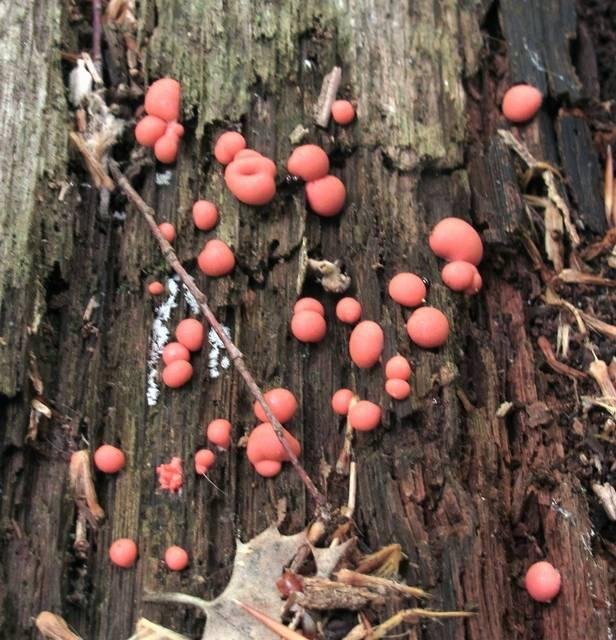poisonous_mushroom: (117, 67, 577, 614), (222, 149, 277, 205), (427, 215, 484, 265), (500, 82, 542, 123), (523, 559, 562, 603), (92, 442, 126, 474)
